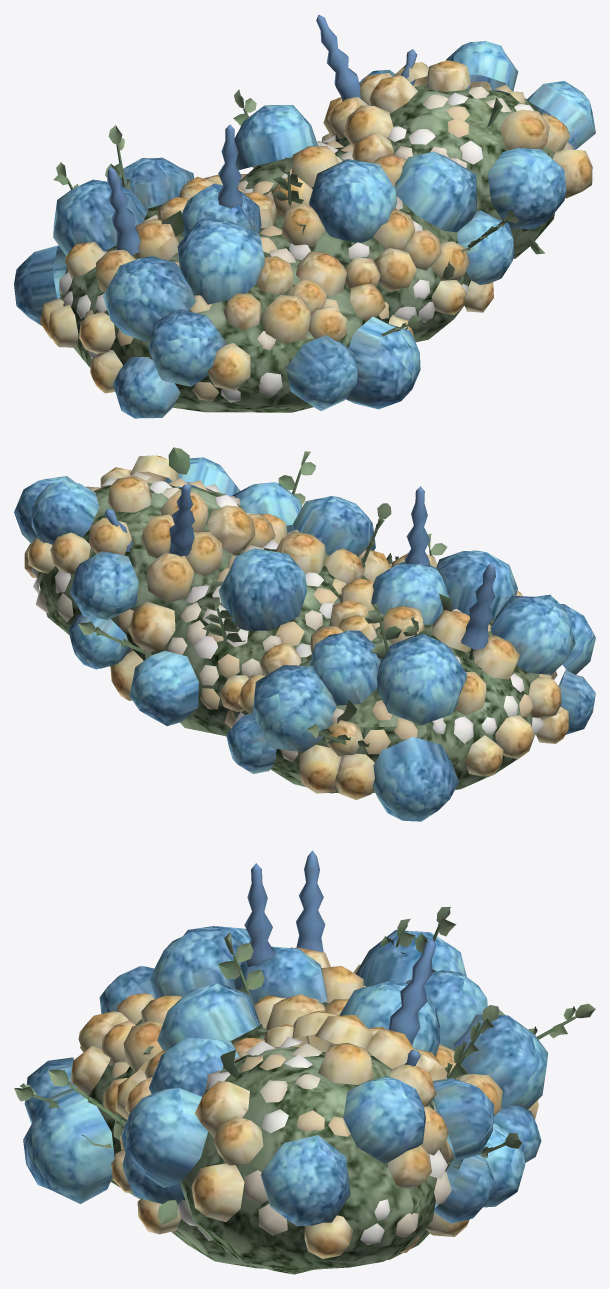
The model's file is cluster_c.glb.
The picture shows the model from 3 angles, top to bottom: view 1: azimuth 30°, elevation 25°; view 2: azimuth 150°, elevation 25°; view 3: azimuth 270°, elevation 25°; orthographic projection. The views are drawn at different scales.
Visible parts, largest first — view 1: cluster_c; view 2: cluster_c; view 3: cluster_c.
Part boxes in pixels (left/top/right/bottom): cluster_c: left=14, top=14, right=595, bottom=418; cluster_c: left=14, top=447, right=595, bottom=821; cluster_c: left=14, top=850, right=595, bottom=1274.
Size of the model in its own units: 1.3 by 0.6927 by 1.03.
Materials: 1 (1 with a texture image).
